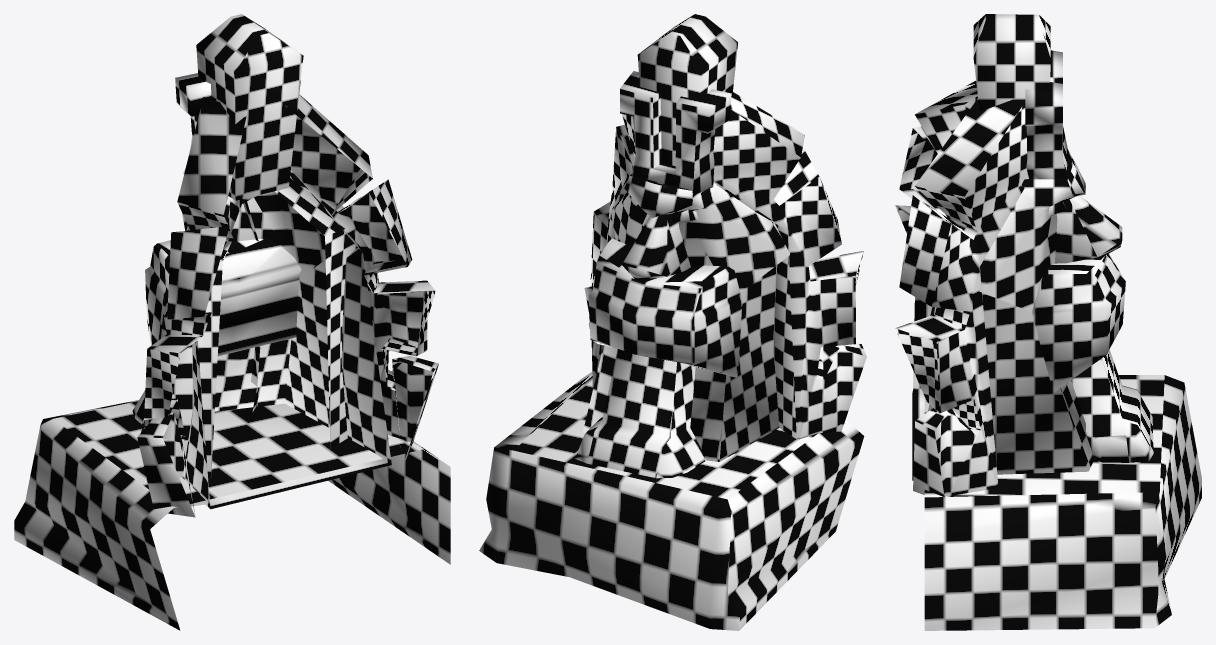
Rendered from stst122.dae.
3 renders of one model, left to right at view 1: azimuth 30°, elevation 25°; view 2: azimuth 150°, elevation 25°; view 3: azimuth 270°, elevation 25°, orthographic. The views are drawn at different scales.
Parts seen in each view (by area): view 1: face00; view 2: face00; view 3: face00.
Part boxes in pixels (bbox=[...]): face00: bbox=[14, 14, 450, 630]; face00: bbox=[479, 14, 866, 630]; face00: bbox=[895, 14, 1201, 630].
Bounding box in the file's own units: 2.41 × 2.1 × 4.07.
Materials: 1 (1 with a texture image).
